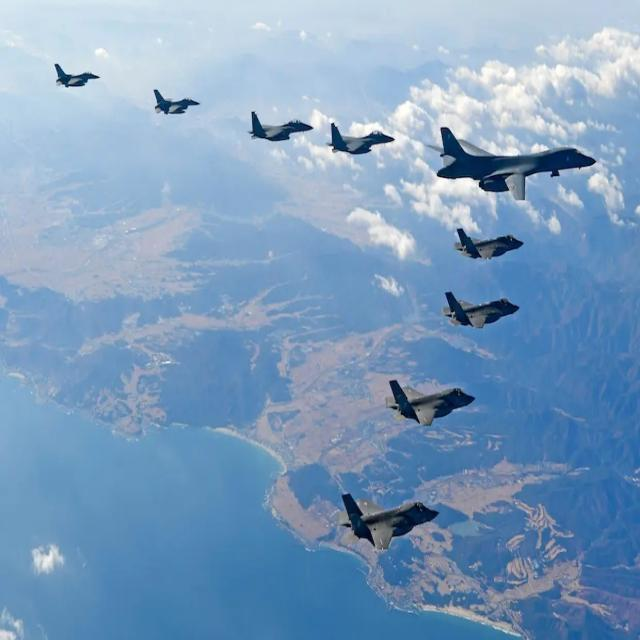MIL_Plane: (455, 62, 564, 138), (336, 490, 440, 550), (384, 379, 476, 428), (442, 291, 520, 330), (325, 121, 396, 155), (453, 227, 524, 260), (247, 110, 314, 143), (153, 89, 202, 116), (54, 63, 100, 88)
